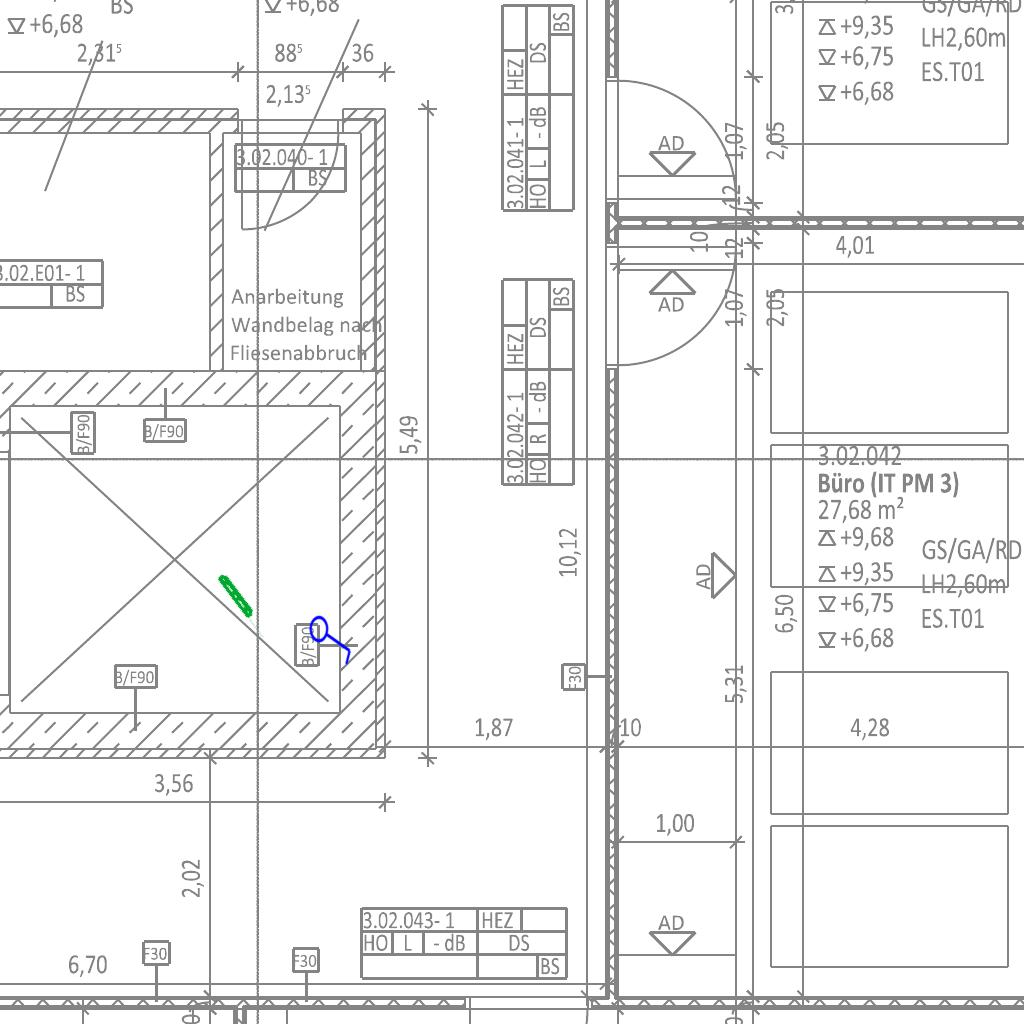Ausschalter: (308, 610, 356, 666)
Sicherheitsleuchte_Wandeinbau: (215, 570, 273, 641)
